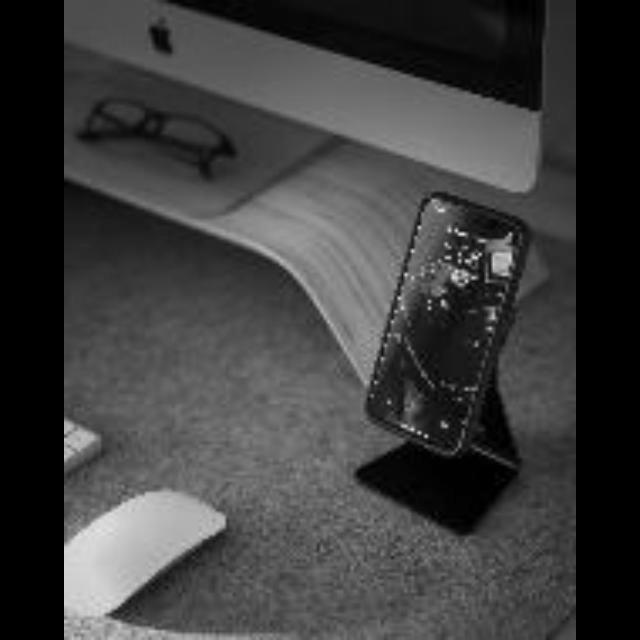fake: (337, 169, 552, 479)
